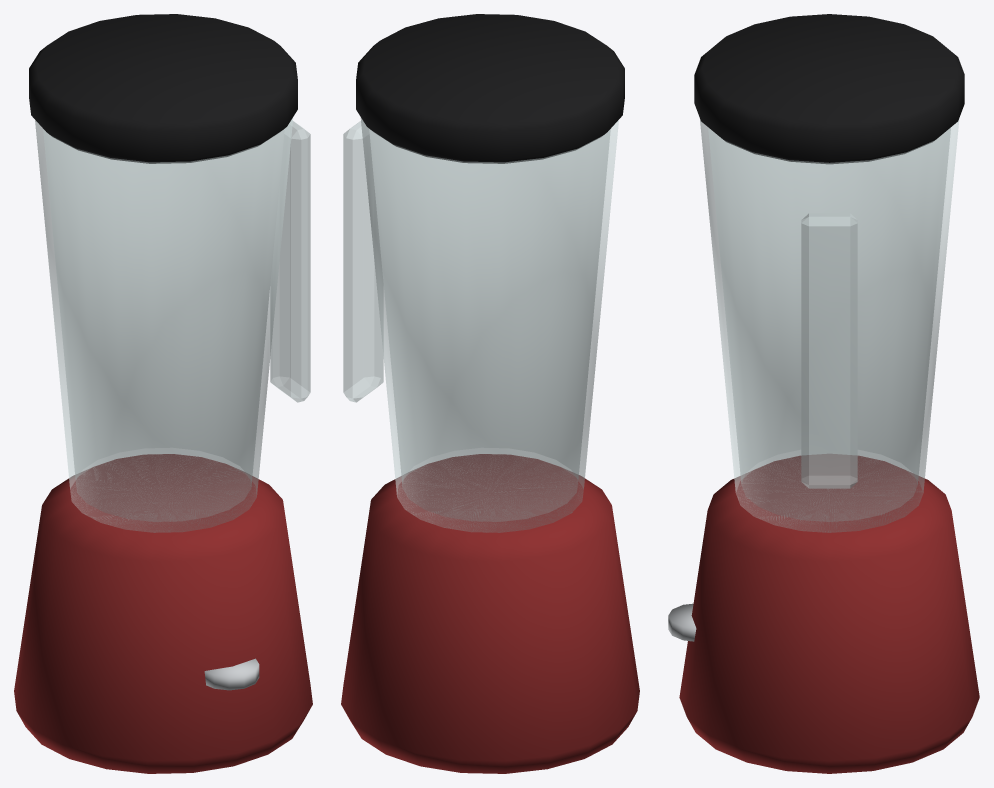
Rendered from i_kit_12.glb.
The picture shows the model from 3 angles, left to right: view 1: azimuth 30°, elevation 25°; view 2: azimuth 150°, elevation 25°; view 3: azimuth 270°, elevation 25°; orthographic projection.
Parts seen in each view (by area): view 1: o.001, o, o.002, o.003, o.004; view 2: o.001, o, o.002, o.003; view 3: o.001, o, o.002, o.003, o.004.
Part boxes in pixels (<box>): o.001: <box>35,117,293,532</box>; o: <box>14,454,312,773</box>; o.002: <box>29,14,297,163</box>; o.003: <box>270,120,310,402</box>; o.004: <box>204,658,259,690</box>; o.001: <box>360,117,618,532</box>; o: <box>341,454,639,773</box>; o.002: <box>356,14,624,163</box>; o.003: <box>343,120,383,402</box>; o.001: <box>700,119,959,532</box>; o: <box>679,454,979,773</box>; o.002: <box>694,14,964,164</box>; o.003: <box>801,213,857,488</box>; o.004: <box>668,603,696,641</box>.
Bounding box in the file's own units: 0.164 × 0.38 × 0.166.
